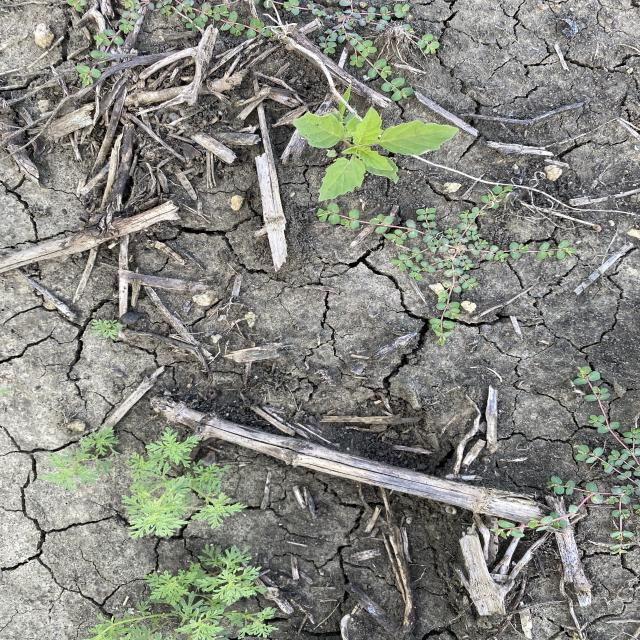CutleafGroundcherry: (290, 106, 463, 204)
Ragweed: (42, 424, 251, 544), (70, 542, 282, 639), (91, 318, 124, 342)
SpottedSpurge: (314, 183, 583, 347), (488, 364, 640, 558), (250, 0, 446, 103), (60, 0, 273, 90)
